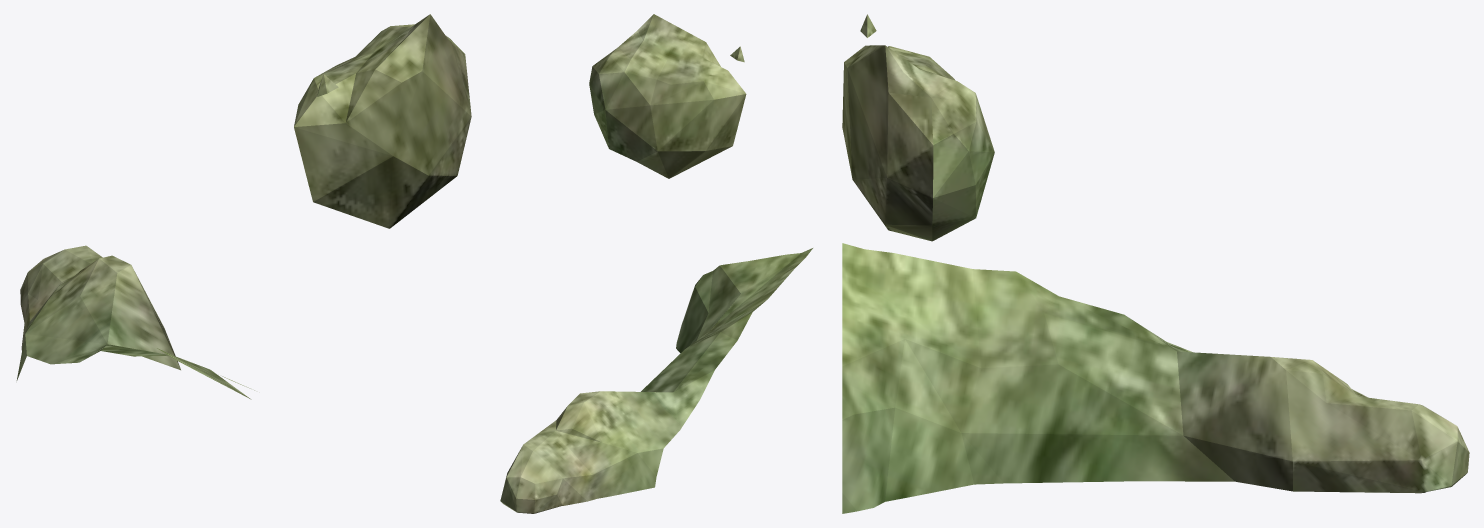
3 views of the same model, side by side, from view 1: azimuth 30°, elevation 25°; view 2: azimuth 150°, elevation 25°; view 3: azimuth 270°, elevation 25° (orthographic). The views are drawn at different scales.
Size of the model in its own units: 1.1 by 1.87 by 2.24.
1 material, 1 textured.
